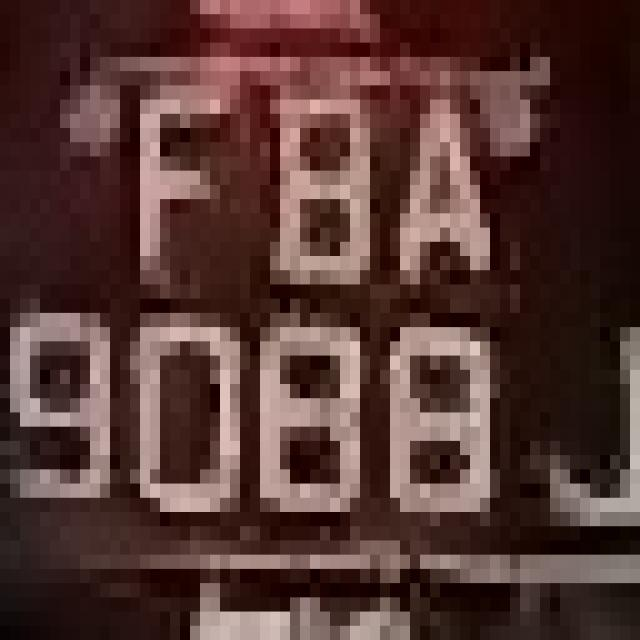0: (130, 284, 250, 512)
8: (220, 284, 350, 554), (380, 298, 480, 554)
9: (10, 284, 110, 498)
A: (380, 71, 520, 313)
B: (240, 57, 390, 341)
F: (110, 43, 240, 284)
